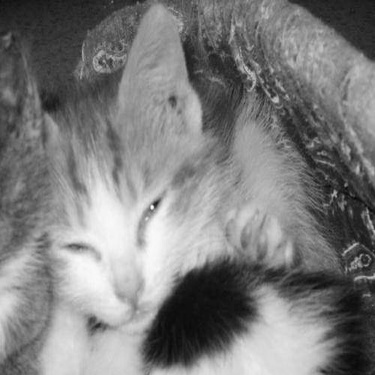cat: (40, 6, 368, 372), (1, 41, 51, 362)
